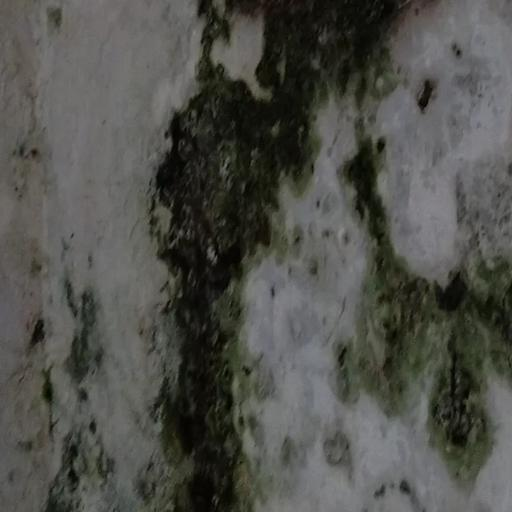algae: (132, 1, 512, 512)
